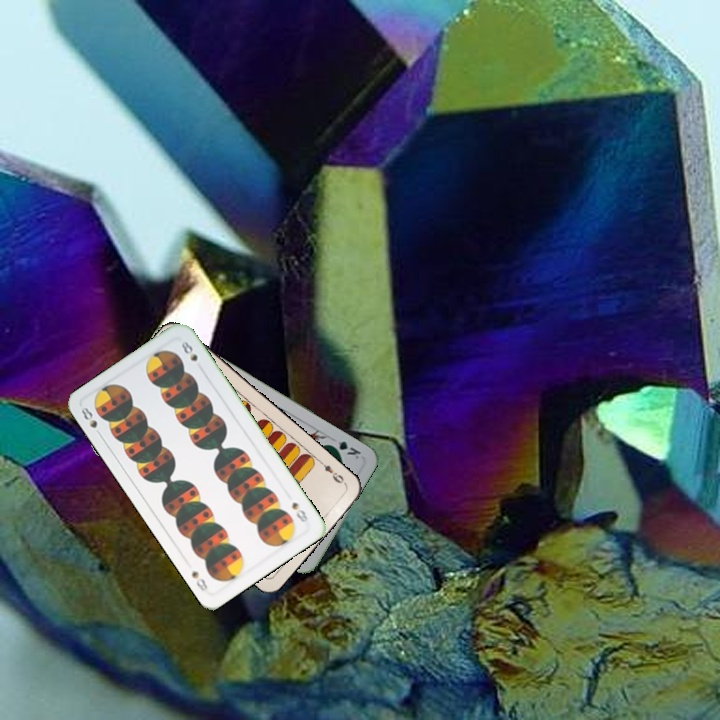E9: (315, 457, 349, 488)
GK: (325, 437, 364, 462)
S8: (77, 403, 105, 440), (288, 498, 311, 525)
